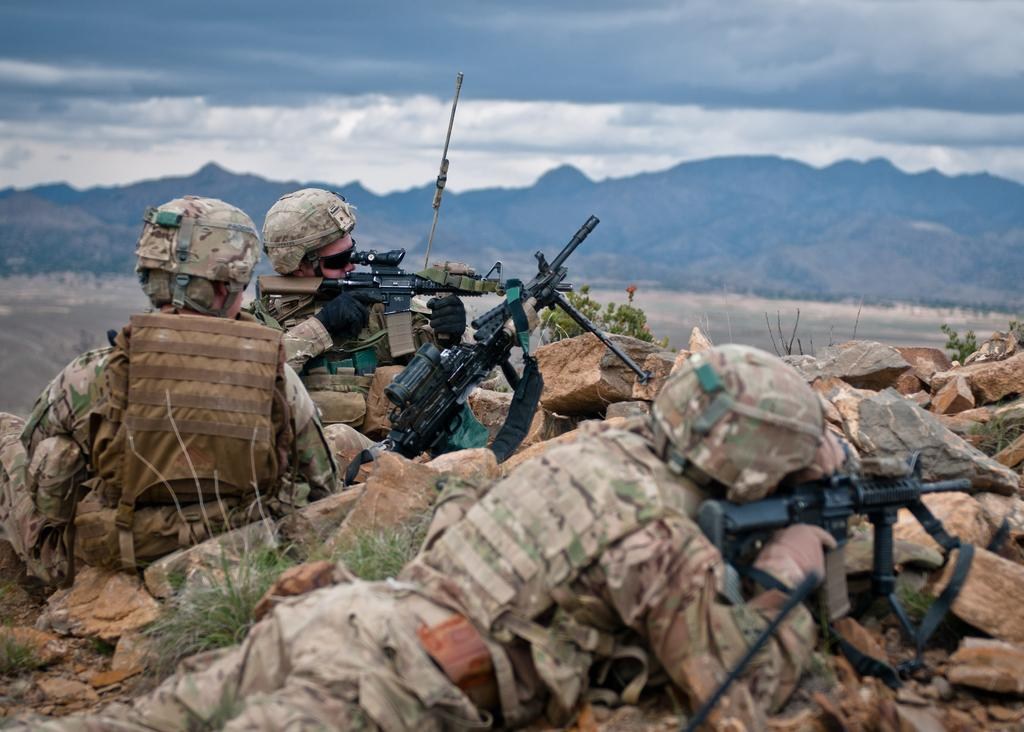Rifle: (383, 208, 655, 456), (693, 466, 974, 647), (257, 242, 520, 360)
